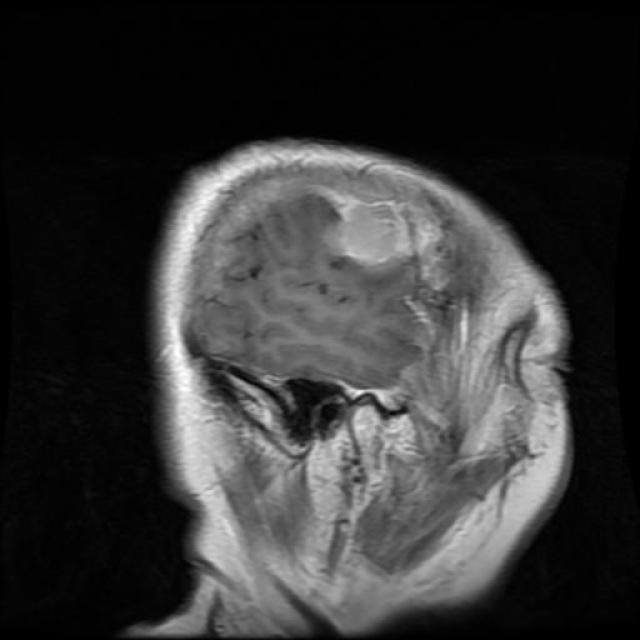meningioma: (318, 186, 442, 278)
